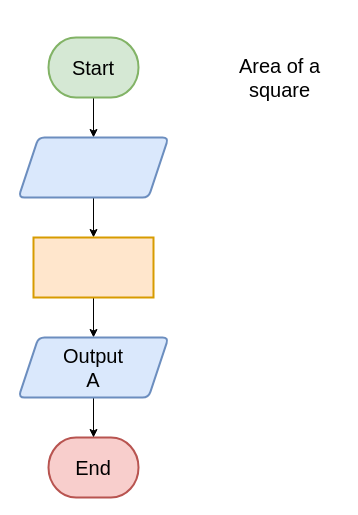
Some shapes in this 358 by 515 pixel diagram are drawn without their labels. Each missing label, with the box of its shape:
Calculate A = l x l: (32, 236, 154, 298)
Input l: (17, 136, 169, 198)
